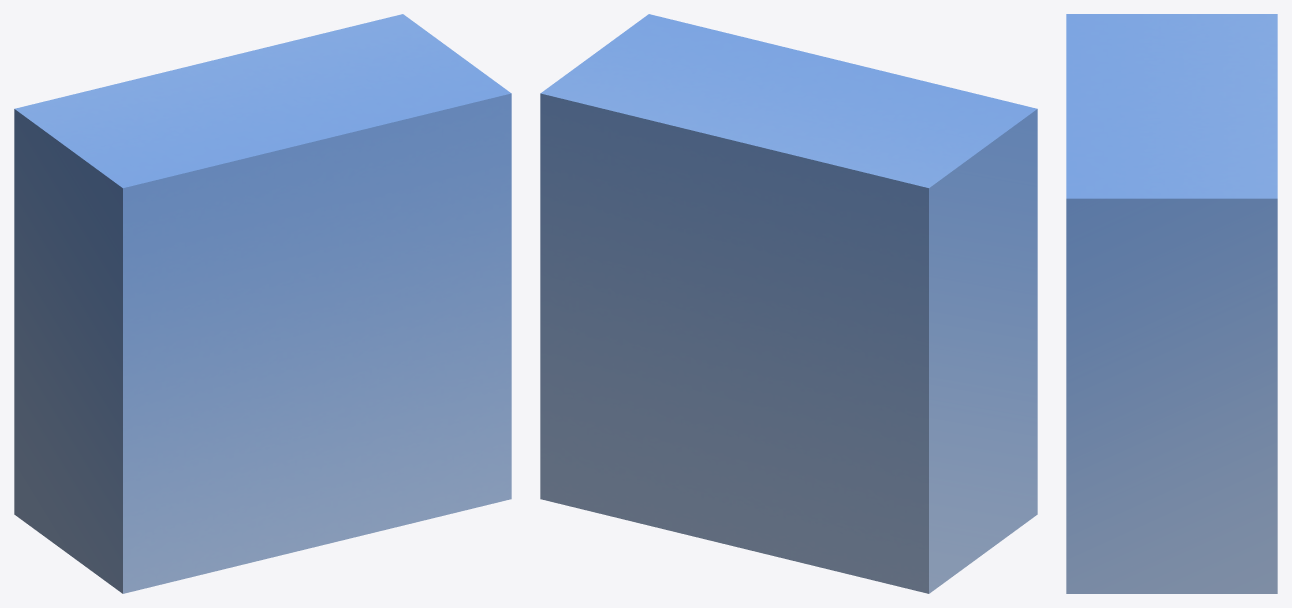
Rendered from HealthPack.FBX.
The picture shows the model from 3 angles, left to right: view 1: azimuth 30°, elevation 25°; view 2: azimuth 150°, elevation 25°; view 3: azimuth 270°, elevation 25°; orthographic projection. The views are drawn at different scales.
Visible parts, largest first — view 1: Box002; view 2: Box002; view 3: Box002.
Part boxes in pixels (<box>): Box002: <box>14,14,511,593</box>; Box002: <box>540,14,1037,593</box>; Box002: <box>1066,14,1277,593</box>.
Size of the model in its own units: 80.32 by 80.12 by 38.85.
Materials: 2 (2 with a texture image).
